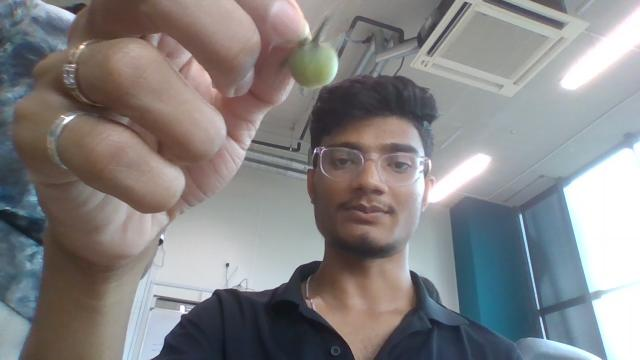Fruit Maturation: (286, 41, 338, 90)
